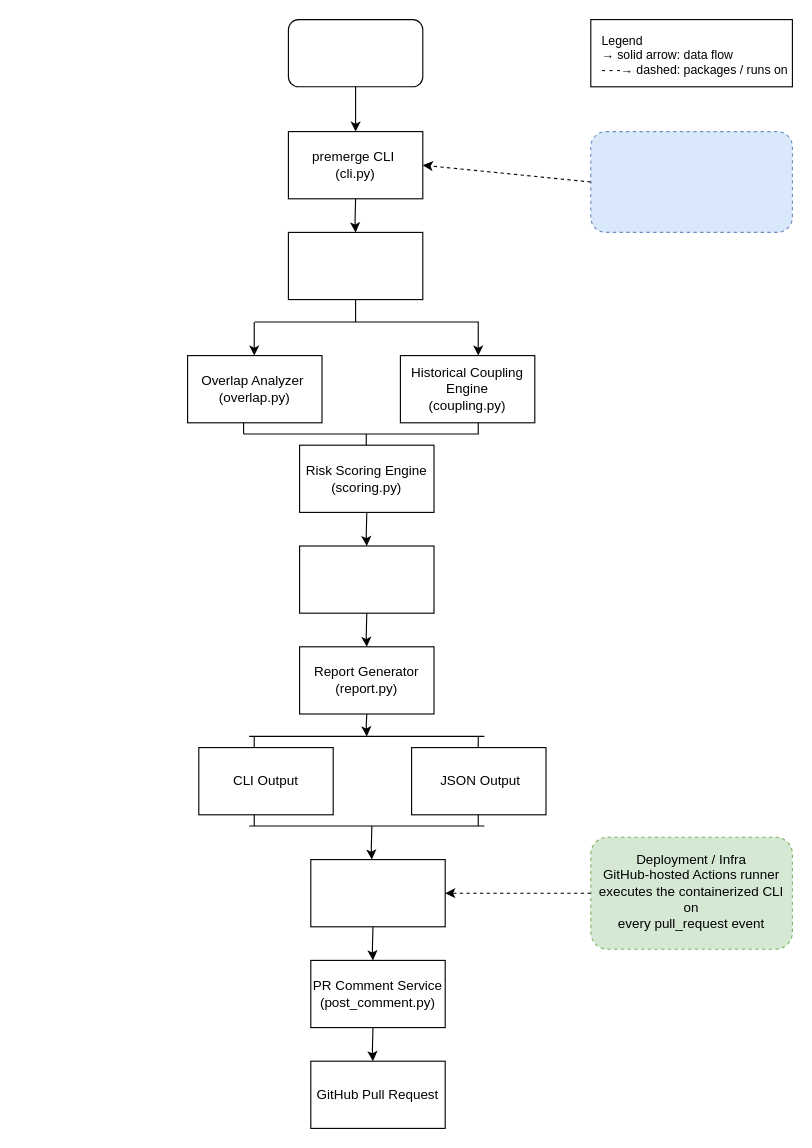
Some shapes in this 812 by 1148 pixel diagram are drawn without their labels. Each missing label, with the centre of its shape:
"Containerization Docker image (Dockerfile) packages the CLI + git" goes at point 691,181.
"Developer/user" goes at point 355,52.
"git utilities (git_utils.py)" goes at point 355,265.
"GitHub Action (action.yml)" goes at point 377,892.
"SQLite Cache (.premerge_cache.sqlite)" goes at point 366,579.
